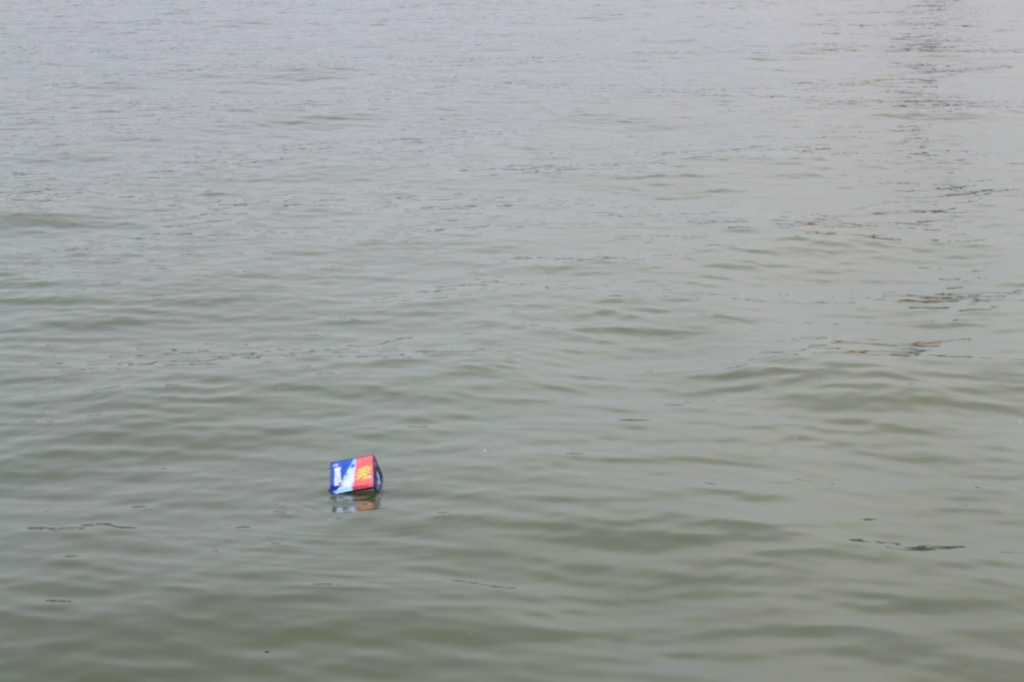plastic: (320, 439, 406, 525), (481, 446, 488, 453)
